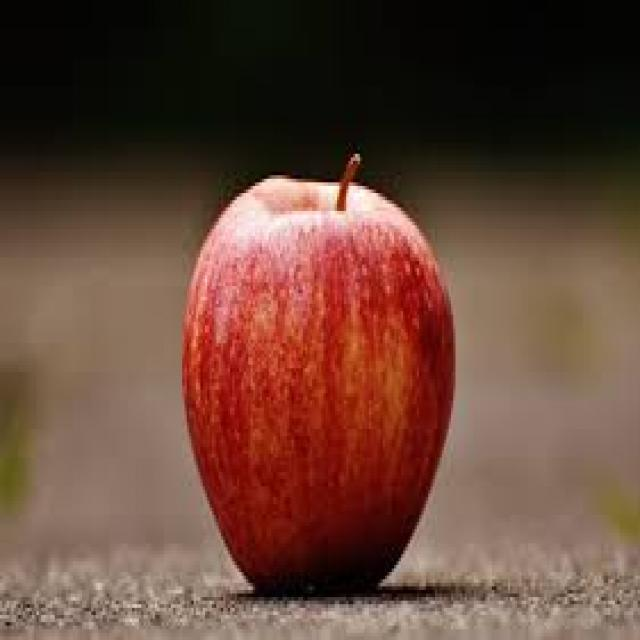Fresh Apple: (160, 160, 465, 607)
